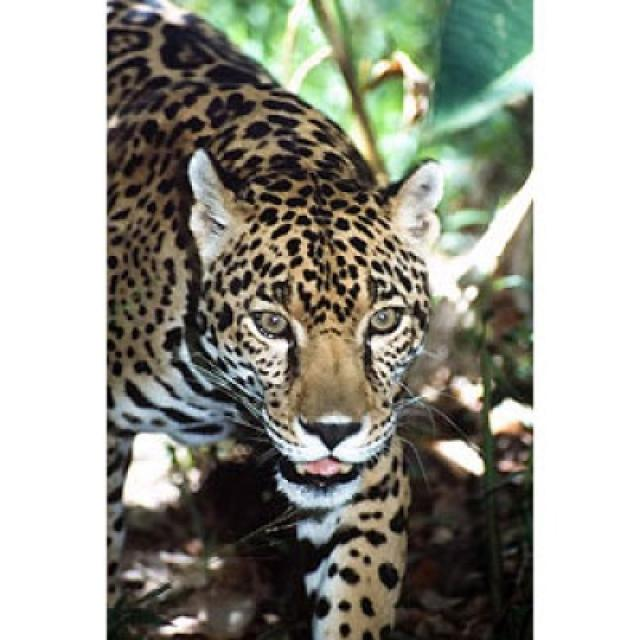Jaguar: (106, 0, 458, 638)
